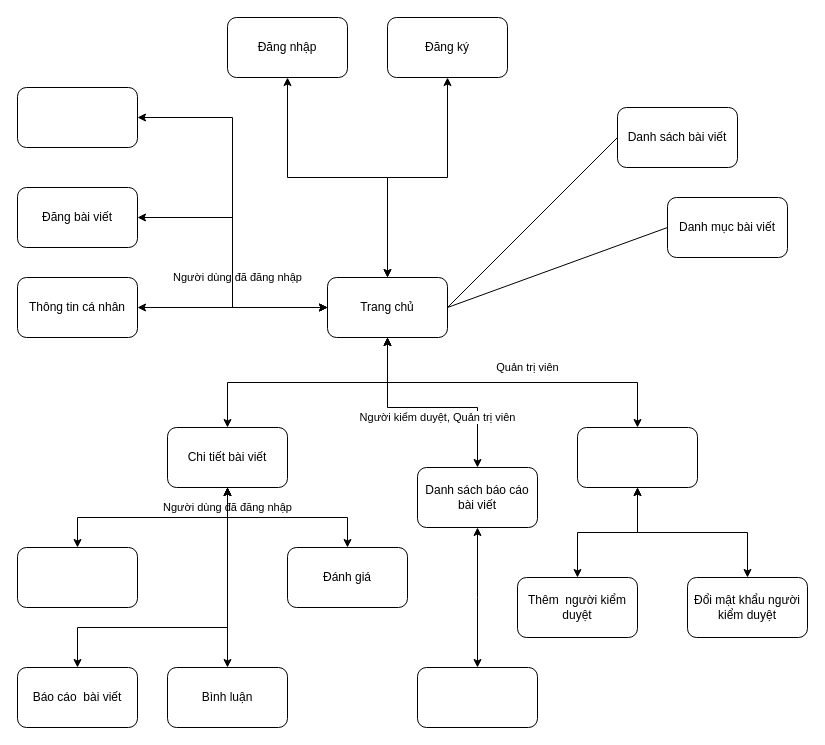
Image size: 825x745. Some labels were removed from this diagram. The centre of each missing label's shape, as x and y in pixels:
Chỉnh sửa bài viết: point 77,577
Danh sách tài khoản Người kiểm duyệt: point 637,457
Danh sách tất cả báo cáo của 1 bài viết: point 477,697
Đổi mật khẩu: point 77,117
